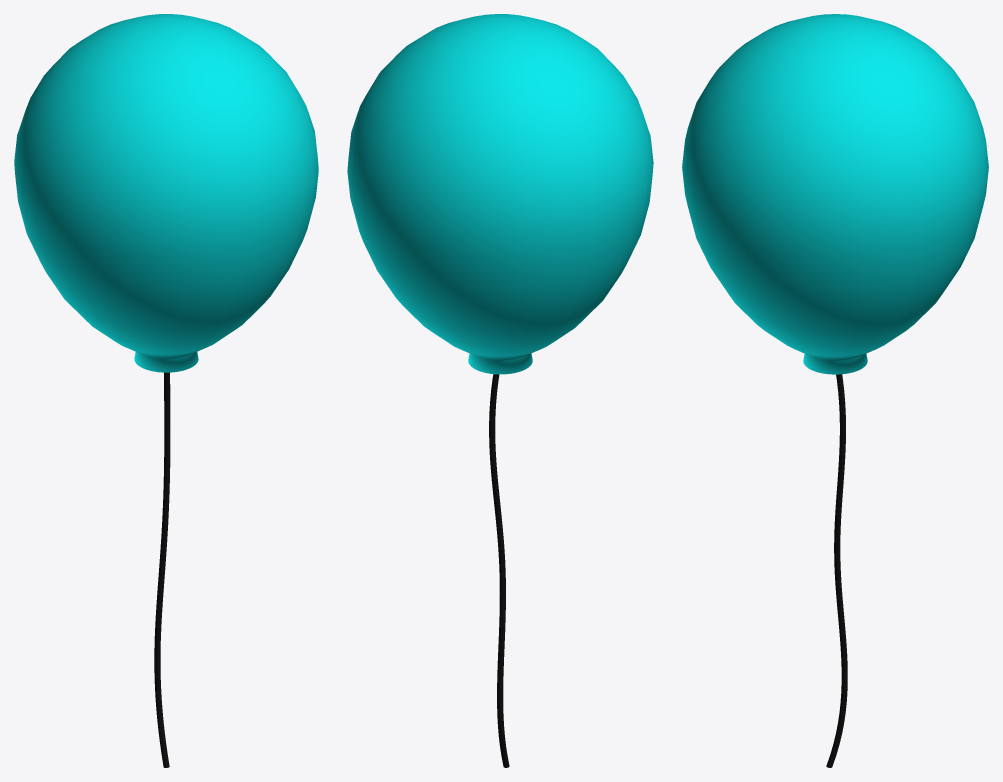
The model's file is balloon 3.fbx.
3 views of the same model, side by side, from view 1: azimuth 30°, elevation 25°; view 2: azimuth 150°, elevation 25°; view 3: azimuth 270°, elevation 25° (orthographic).
Parts seen in each view (by area): view 1: Sphere, NurbsPath; view 2: Sphere, NurbsPath; view 3: Sphere, NurbsPath.
Part boxes in pixels (bbox=[...]): Sphere: bbox=[14, 14, 318, 372]; NurbsPath: bbox=[154, 372, 170, 767]; Sphere: bbox=[347, 14, 653, 374]; NurbsPath: bbox=[489, 374, 509, 767]; Sphere: bbox=[682, 14, 988, 374]; NurbsPath: bbox=[826, 374, 847, 767].
Size of the model in its own units: 99.24 by 264 by 99.24.
